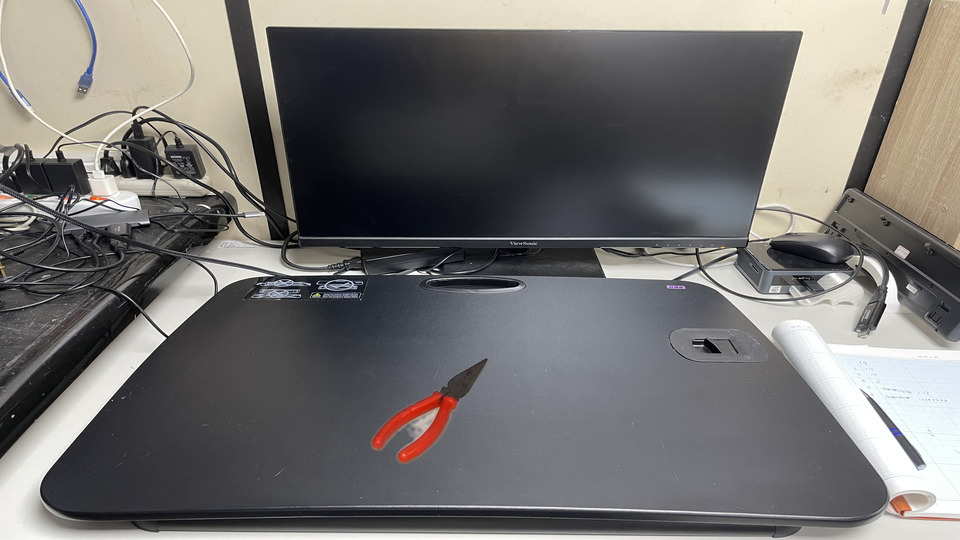blade: (472, 386, 564, 407)
round_grasp: (394, 383, 474, 428)
